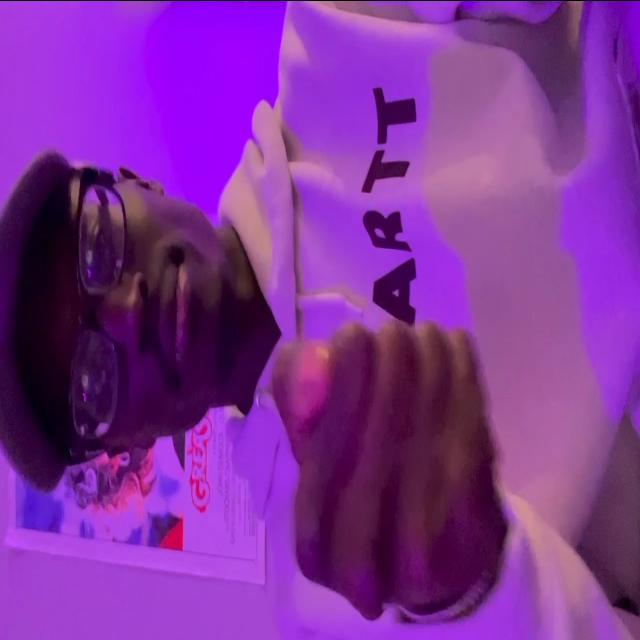Rock: (266, 320, 496, 620)
